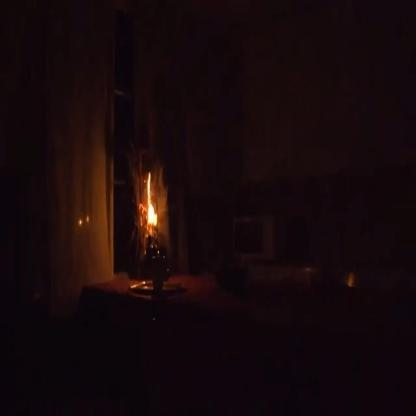fire: (141, 162, 162, 230)
